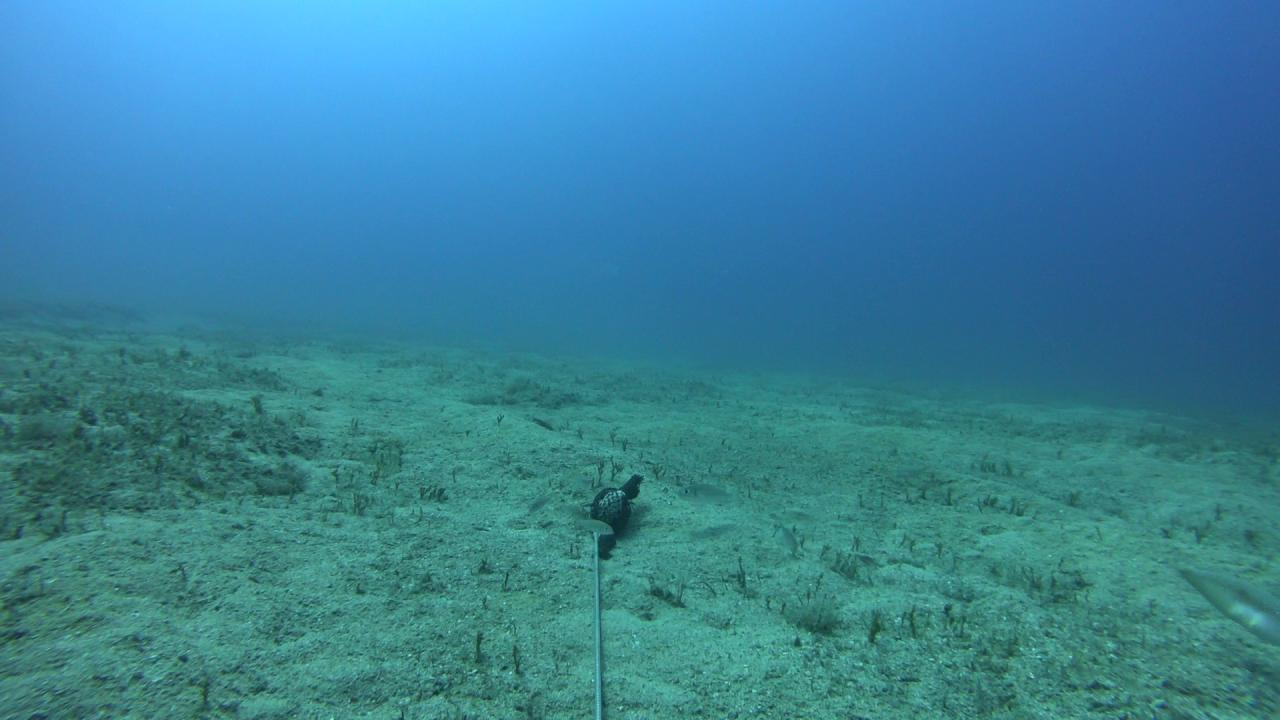pagellus: (676, 482, 744, 507), (776, 522, 805, 554), (526, 487, 552, 516), (576, 518, 614, 534)
